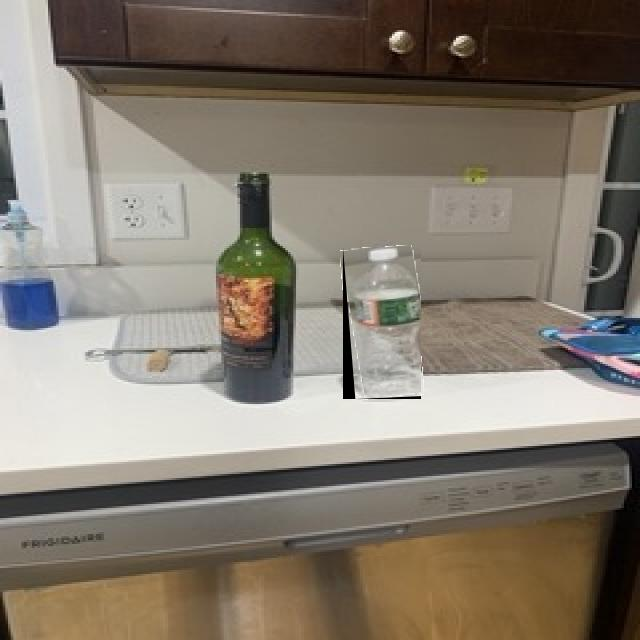water_bottle: (343, 247, 421, 399)
